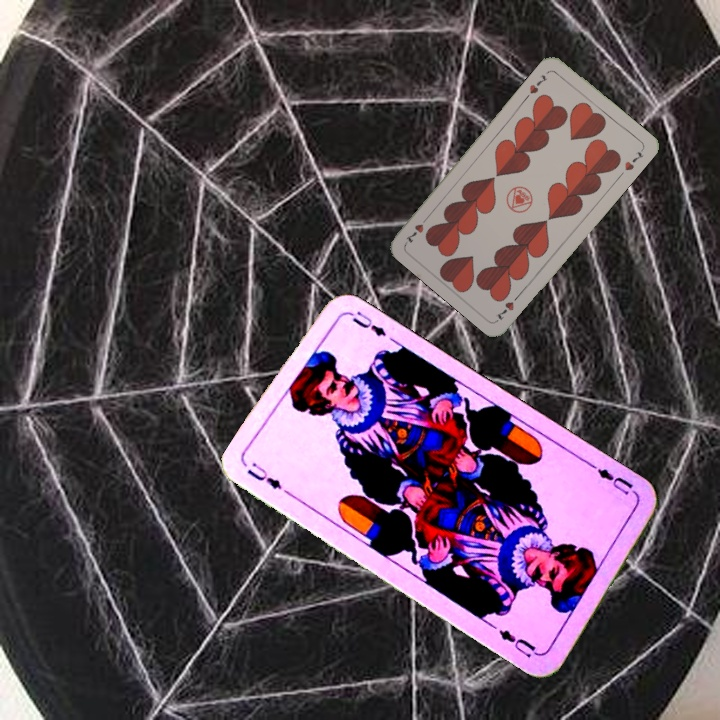EU: (588, 460, 641, 499), (242, 459, 285, 493)
H7: (492, 289, 523, 323), (525, 71, 549, 96)
